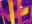Hotspot: (8, 0, 14, 23)
